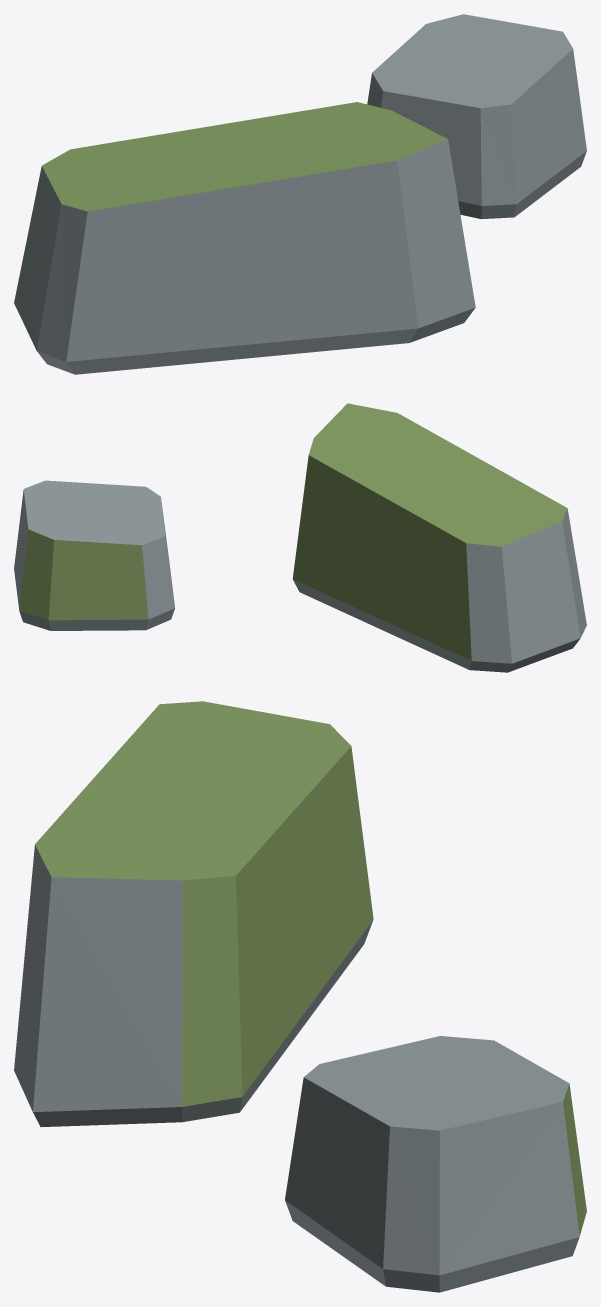
The model's file is SM_MarshwardFallenMasonry_01.fbx.
3 renders of one model, top to bottom at view 1: azimuth 30°, elevation 25°; view 2: azimuth 150°, elevation 25°; view 3: azimuth 270°, elevation 25°, orthographic. The views are drawn at different scales.
Visible parts, largest first — view 1: SM_MarshwardFallenMasonry_01; view 2: SM_MarshwardFallenMasonry_01; view 3: SM_MarshwardFallenMasonry_01.
Boxes of the visible parts, x1,y1,x2,y2 form: SM_MarshwardFallenMasonry_01: (14, 14, 586, 374); SM_MarshwardFallenMasonry_01: (14, 403, 586, 672); SM_MarshwardFallenMasonry_01: (14, 701, 586, 1292).
Size of what is drawn, in the model's own units: 500 by 300 by 140.
